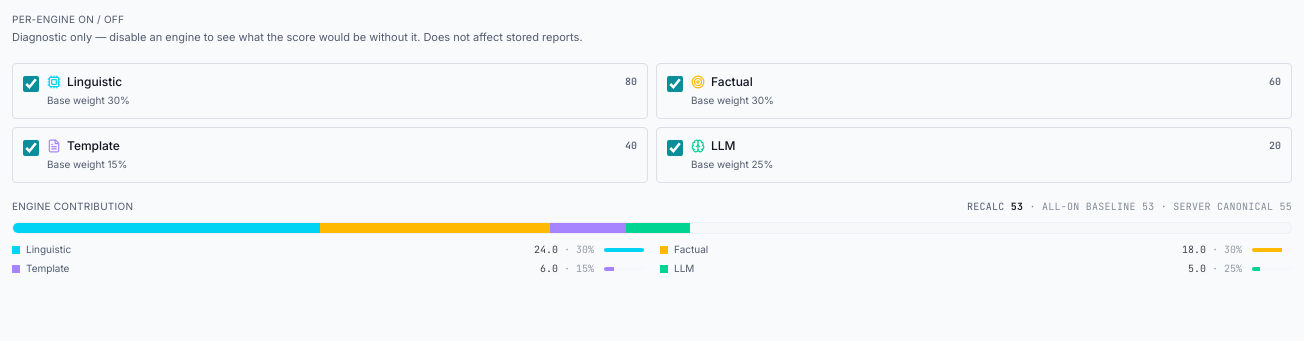
EngineTogglePanel › shows a reset button only when at least one engine is disabled
The image size is (1304, 341).
Click the checkbox with test id "engine-toggle-template": (31, 148) [23,140,39,156]
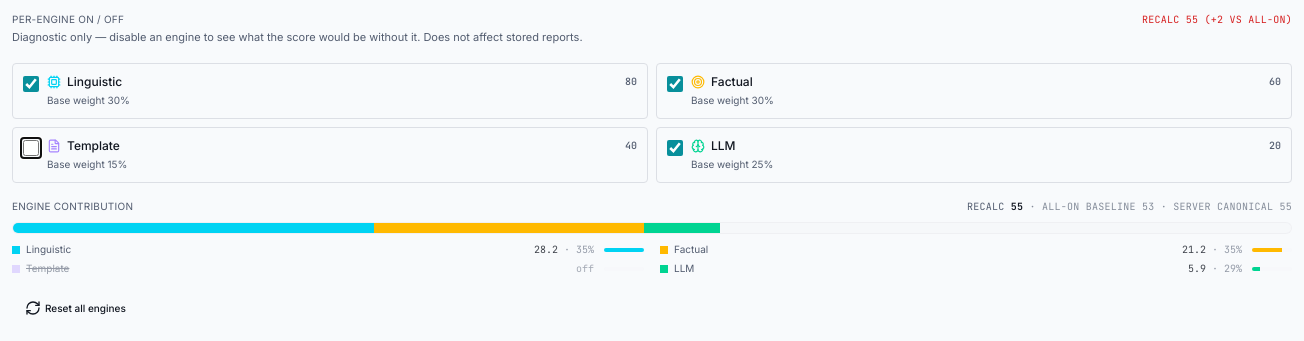
Click the button with test id "engine-toggle-reset": (75, 308) [12,292,139,324]
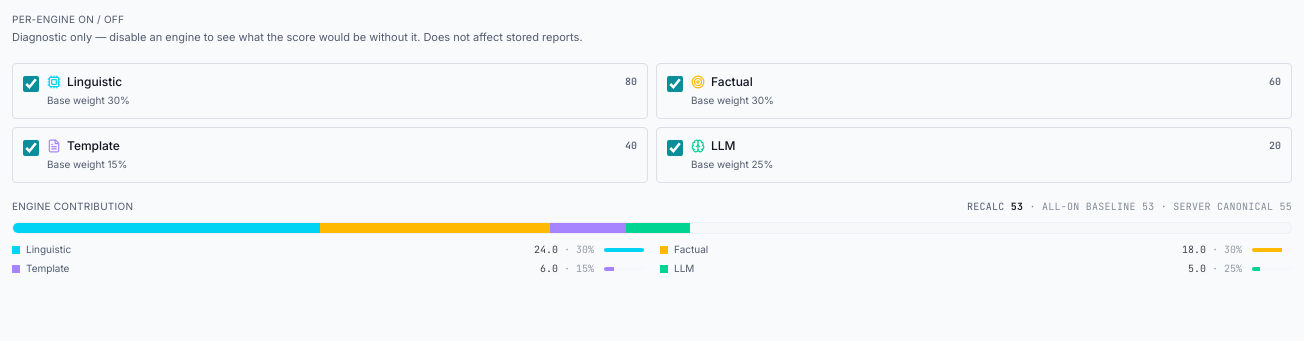
Expected: the checkbox with test id "engine-toggle-template" is checked, [23,140,39,156]
Expected: the button with test id "engine-toggle-reset" is gone
